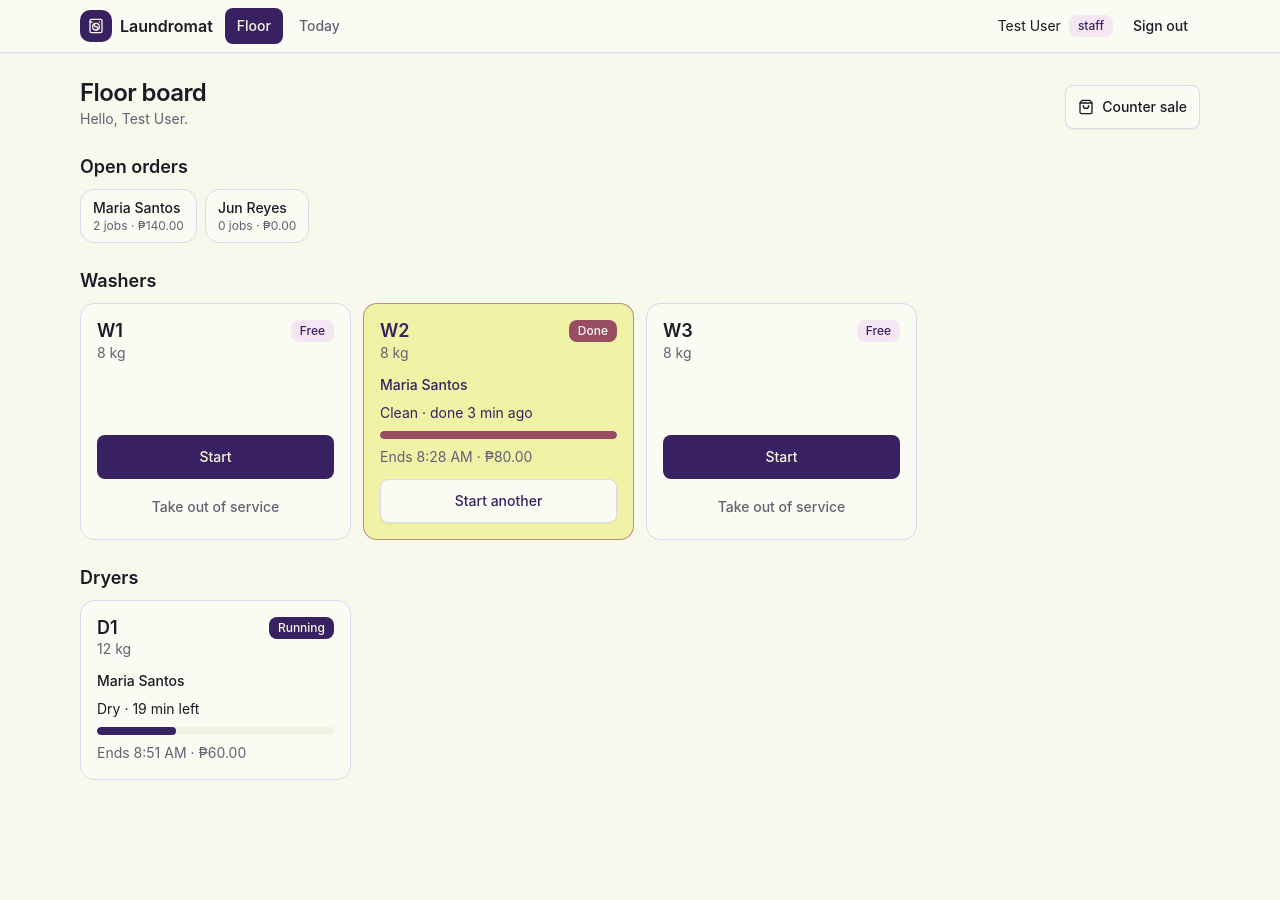
Test case: Orders › will not take one payment for the order while a machine is still running
Click the button with aria-label "Open order for Maria Santos".
click(138, 216)  # box [80, 189, 197, 243]
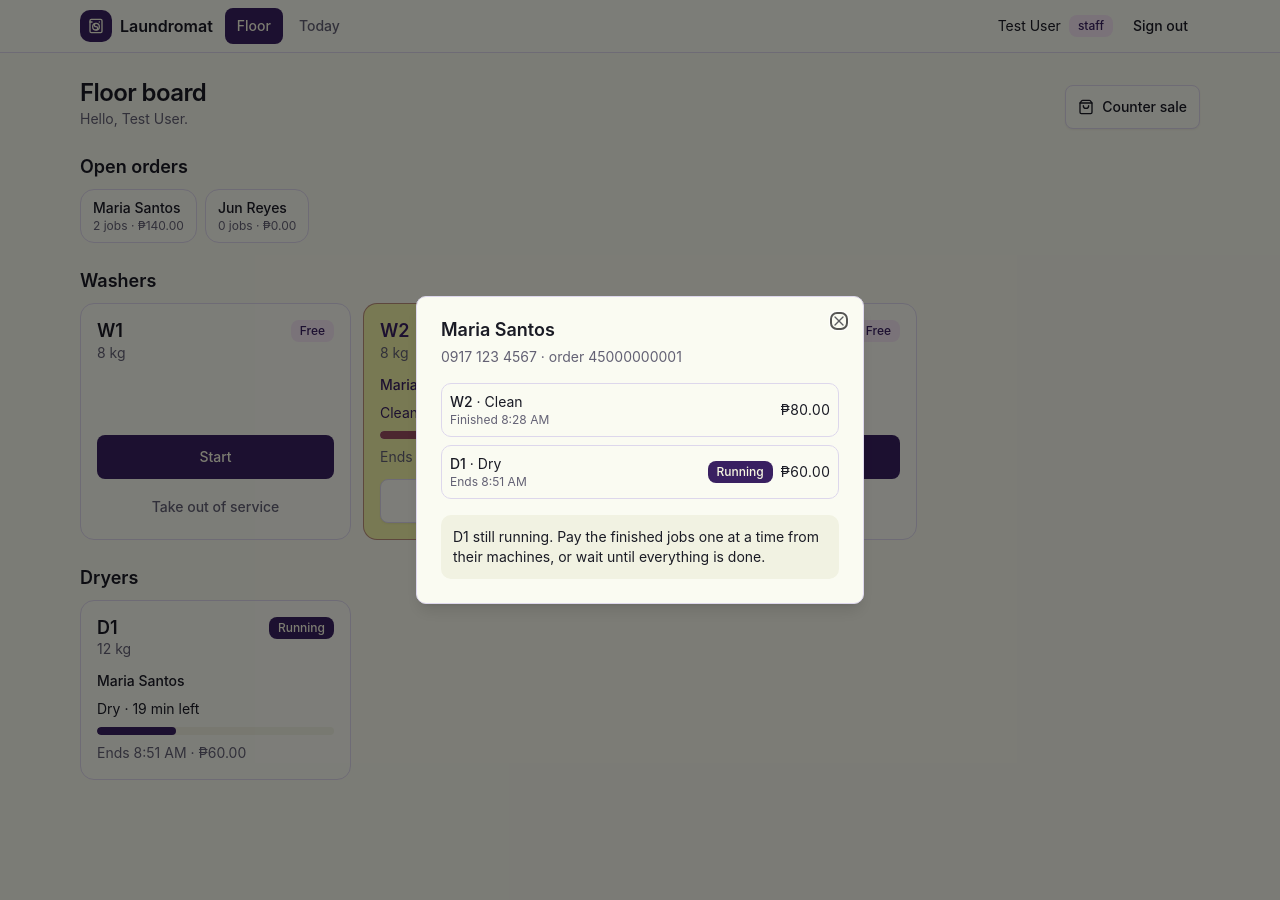
expect the text "D1 still running" is shown: met, box [441, 515, 839, 579]
